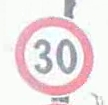limite 30: (13, 16, 96, 96)
